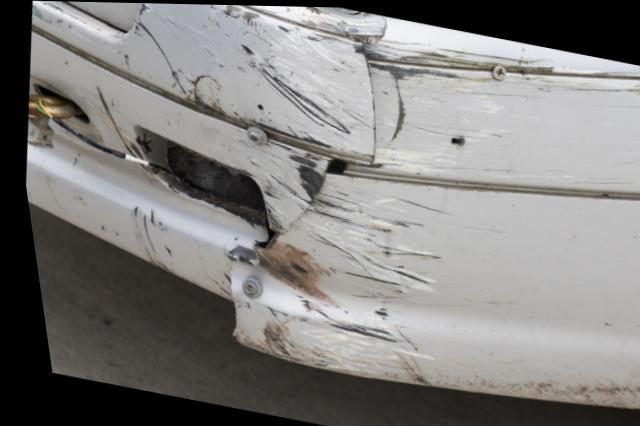crack: (246, 218, 268, 249)
rub: (134, 2, 640, 191), (242, 135, 431, 383)
scratch: (125, 207, 168, 270), (32, 1, 80, 26)
